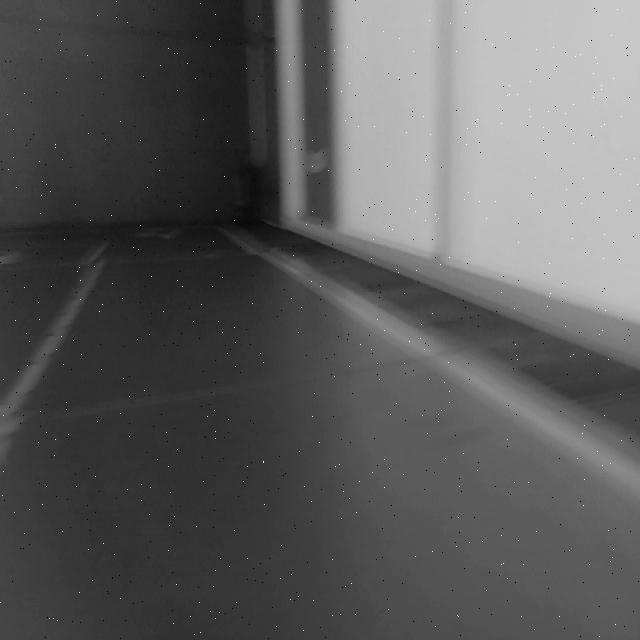left_lane: (0, 238, 107, 460)
right_lane: (232, 227, 640, 504)
